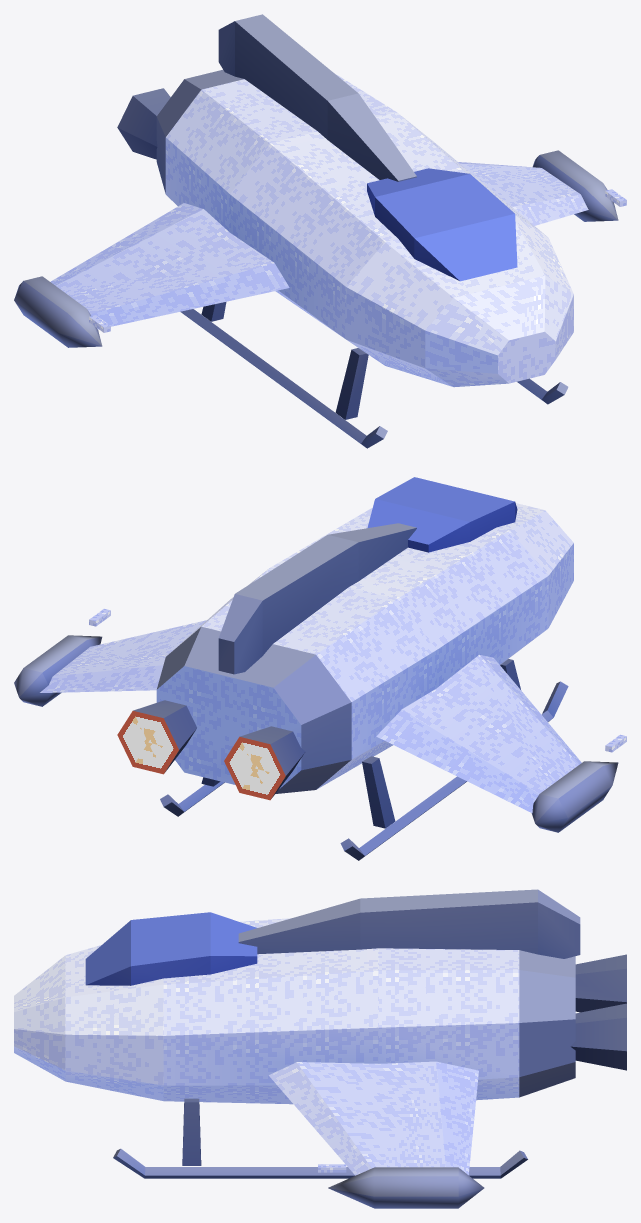
The model's file is ship.shuttle.glb.
3 views of the same model, one above another, from view 1: azimuth 30°, elevation 25°; view 2: azimuth 150°, elevation 25°; view 3: azimuth 270°, elevation 25° (orthographic). The views are drawn at different scales.
Parts seen in each view (by area): view 1: kit_body, kit_wings, kit_spine, kit_canopy, kit_tip_pods, kit_skids, kit_thrusters, kit_struts; view 2: kit_body, kit_wings, kit_spine, kit_thrusters, kit_canopy, kit_tip_pods, kit_skids, kit_struts; view 3: kit_body, kit_wings, kit_spine, kit_canopy, kit_thrusters, kit_tip_pods, kit_skids, kit_struts.
Part boxes in pixels (<box>): kit_body: <box>156,69,573,387</box>; kit_wings: <box>50,162,588,329</box>; kit_spine: <box>218,14,416,181</box>; kit_canopy: <box>367,168,517,281</box>; kit_tip_pods: <box>14,150,618,347</box>; kit_skids: <box>180,309,568,448</box>; kit_thrusters: <box>117,88,170,159</box>; kit_struts: <box>201,302,368,419</box>; kit_body: <box>156,503,573,793</box>; kit_wings: <box>40,620,581,812</box>; kit_spine: <box>218,523,416,674</box>; kit_thrusters: <box>117,700,305,800</box>; kit_canopy: <box>367,477,517,552</box>; kit_tip_pods: <box>14,635,618,832</box>; kit_skids: <box>160,681,568,860</box>; kit_struts: <box>201,659,520,828</box>; kit_body: <box>14,918,575,1104</box>; kit_wings: <box>269,1061,478,1175</box>; kit_spine: <box>238,889,580,958</box>; kit_canopy: <box>85,912,257,985</box>; kit_thrusters: <box>570,954,626,1070</box>; kit_tip_pods: <box>328,1167,484,1208</box>; kit_skids: <box>113,1148,527,1178</box>; kit_struts: <box>182,1098,201,1165</box>.
Bounding box in the file's own units: 6.44 × 2.84 × 6.55.
7 materials, 3 textured.
